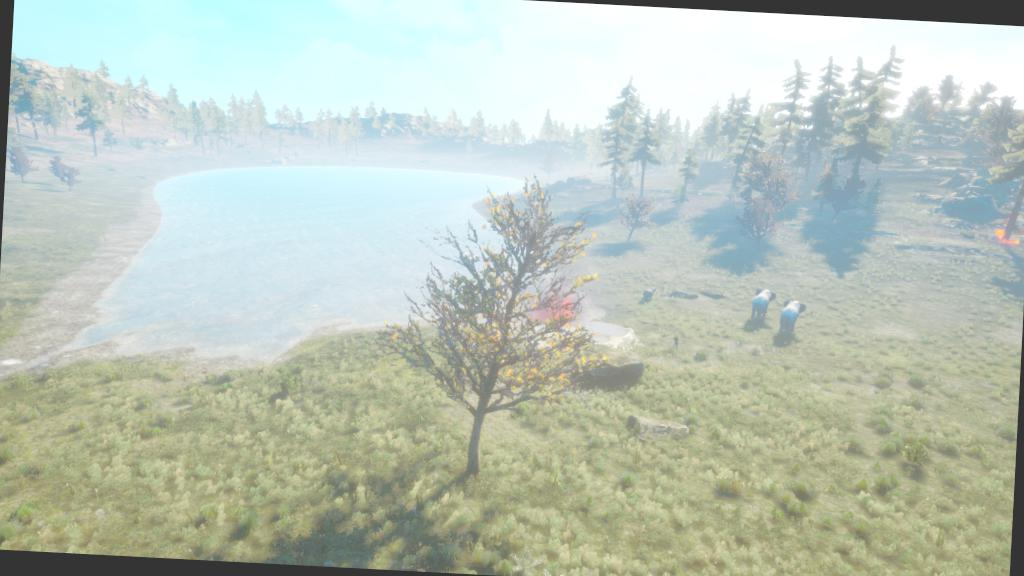Fire: (988, 224, 1023, 252)
elephant: (738, 270, 781, 336), (771, 294, 812, 348)
hippopotamus: (637, 278, 664, 310)
human: (663, 330, 691, 359)
